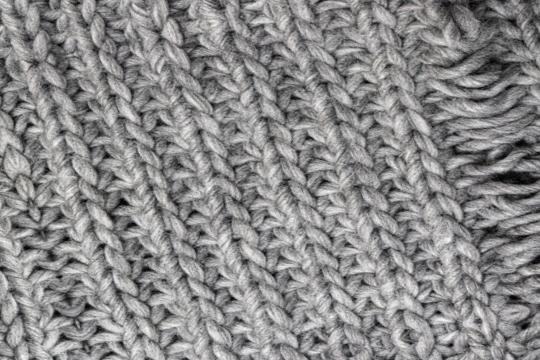slub: (404, 2, 540, 360)
